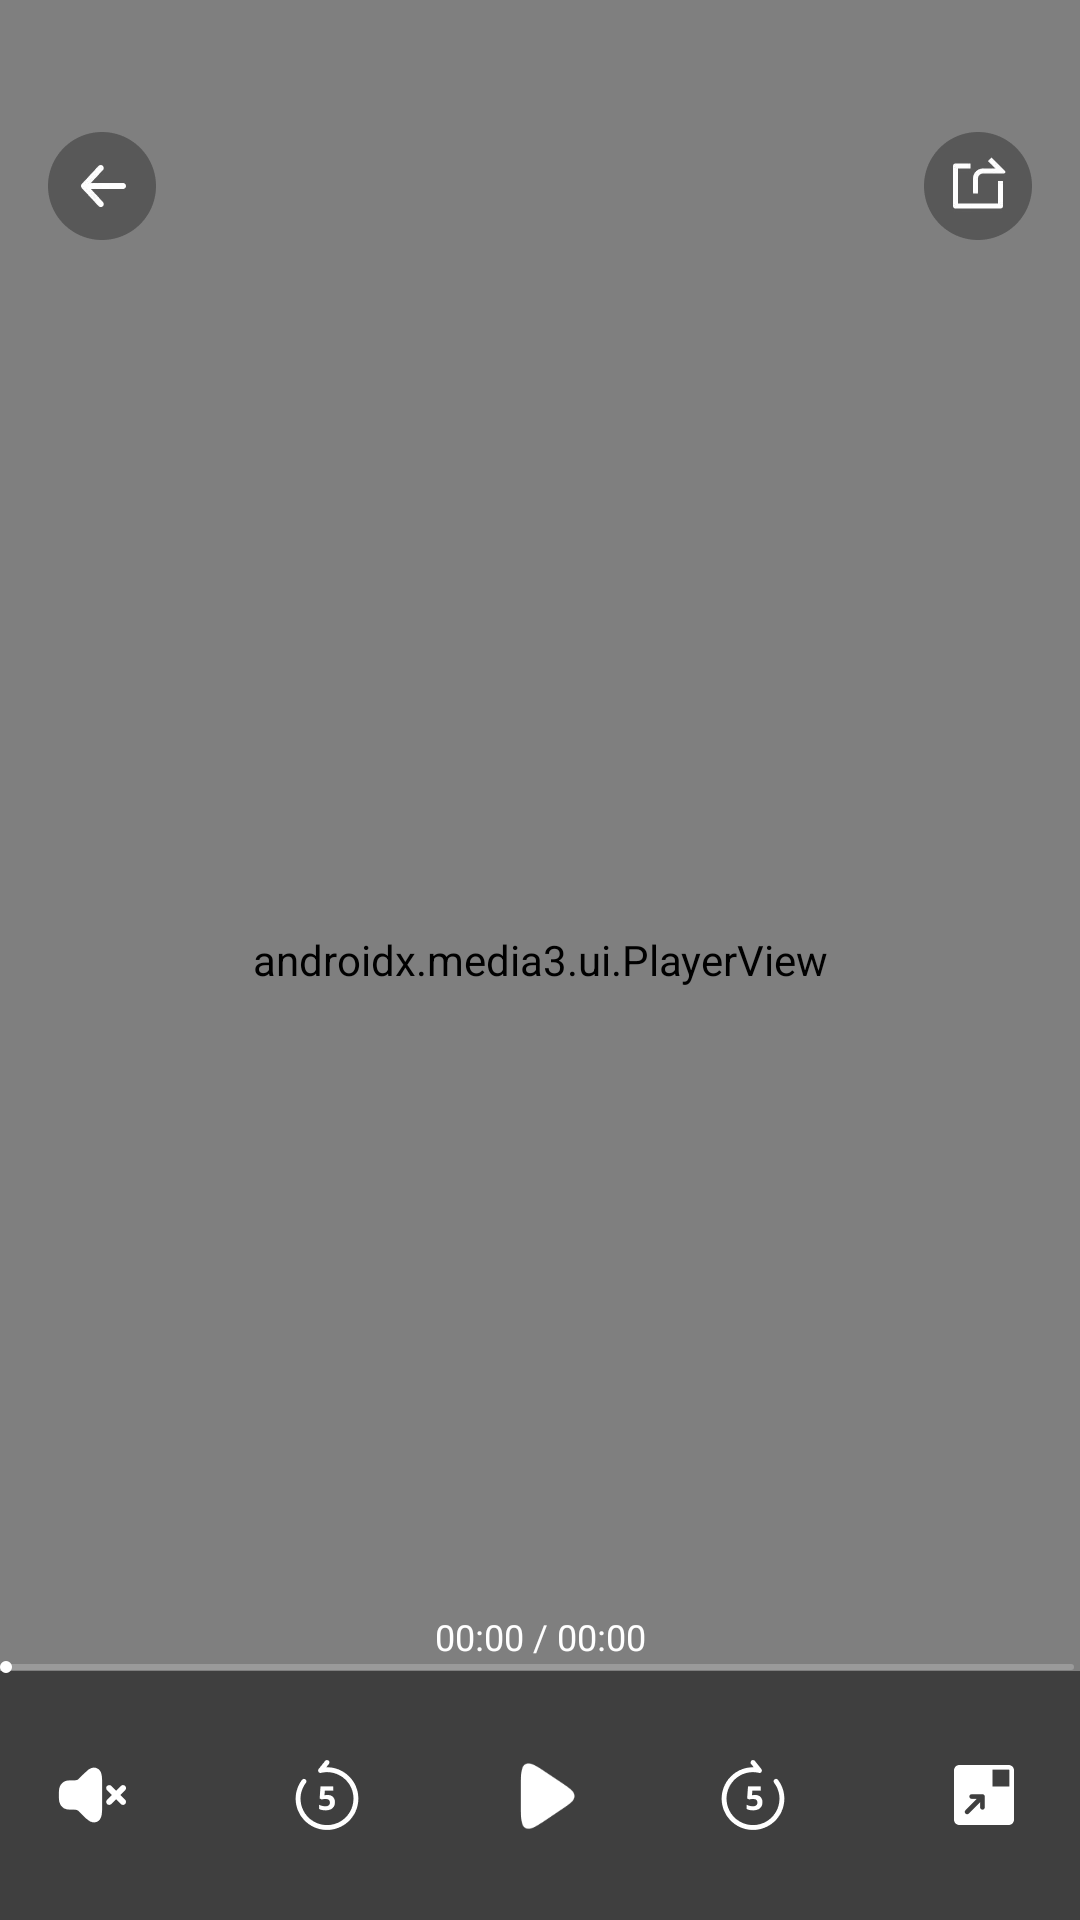

Icon click points for this 1080*1920 phone screenshot, format [x,y]:
video fullscreen: [984,1795]
video play: [547,1796]
video seek back: [327,1795]
video seek front: [753,1795]
video share: [978,186]
video vback: [102,186]
video volume close: [92,1795]
